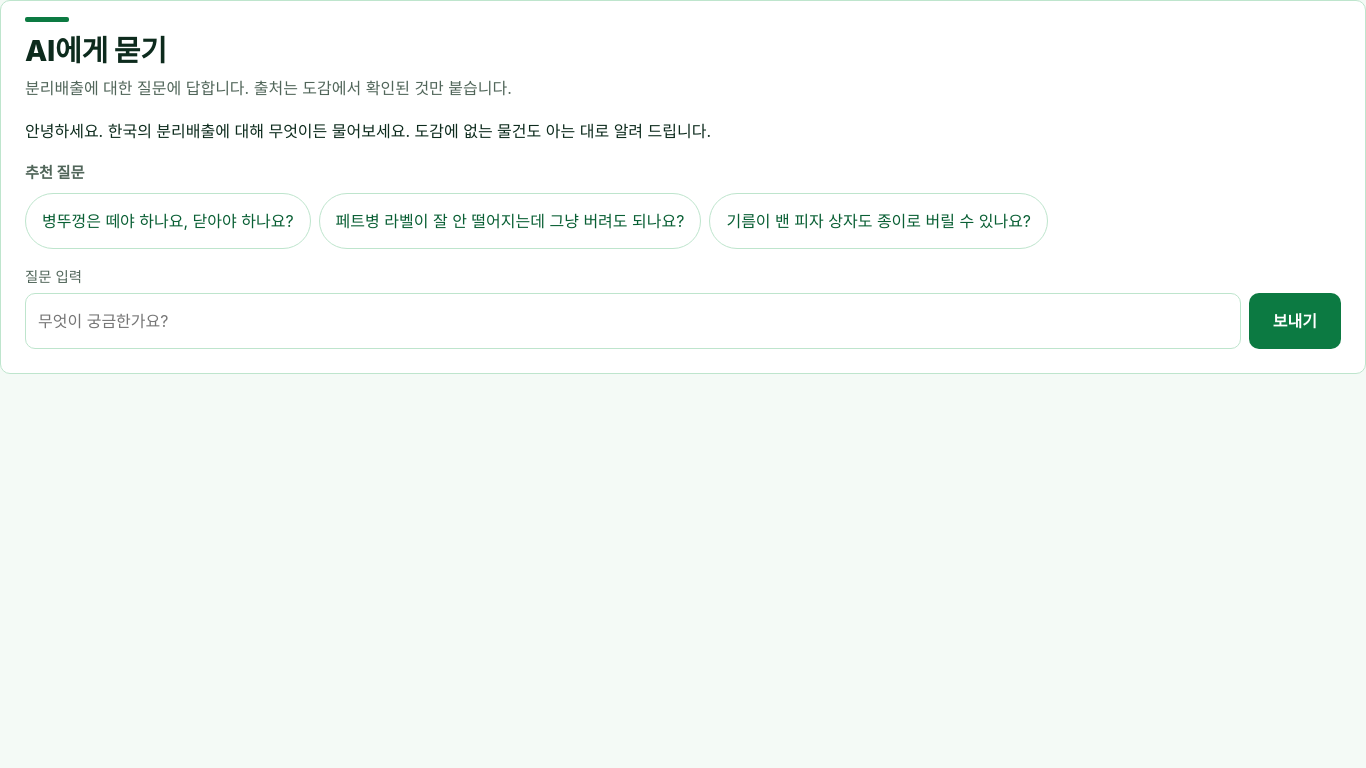
Test case: ChatSection › shows the question and then the answer
Type "페트병 어떻게 버려요?" into the field labelled "질문 입력" at (633, 321), box 25,293 -> 1241,349
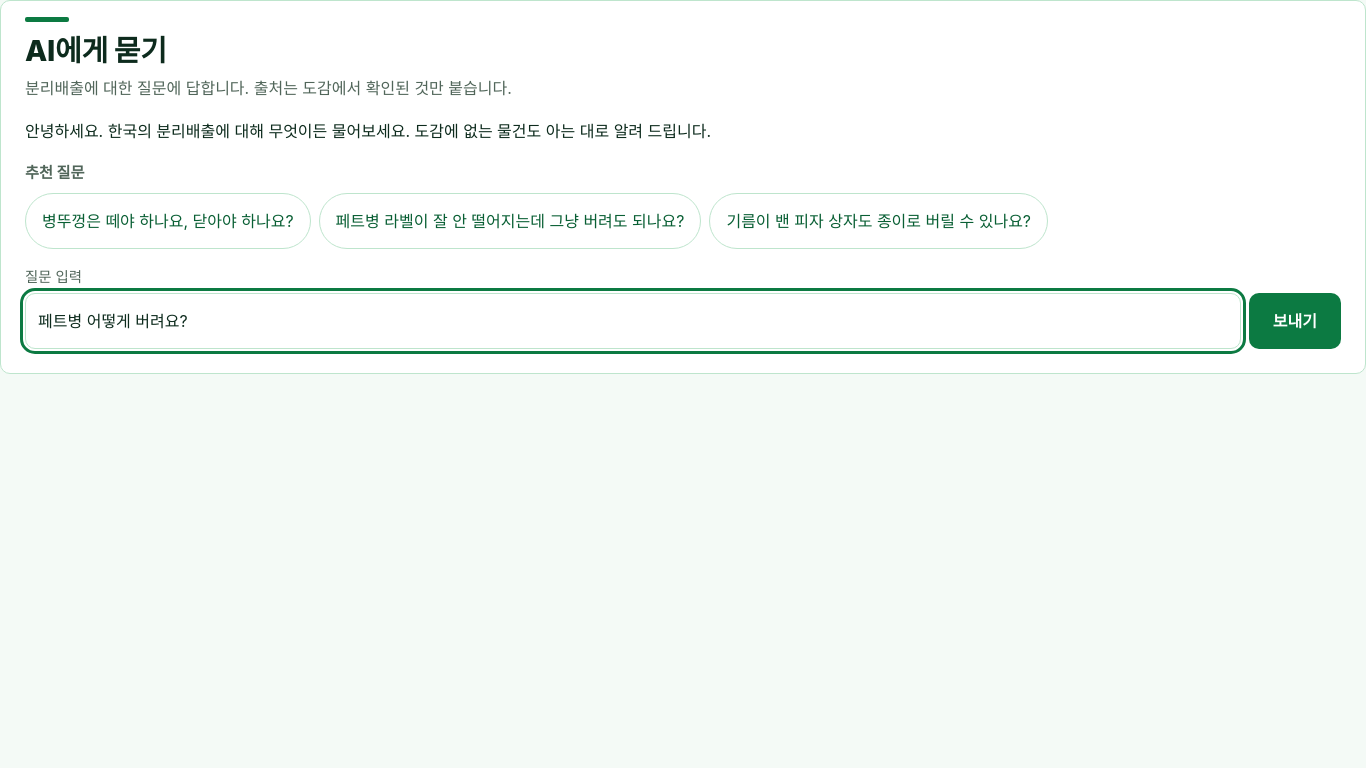
Click the button "보내기" at (1295, 321), box 1249,293 -> 1341,349
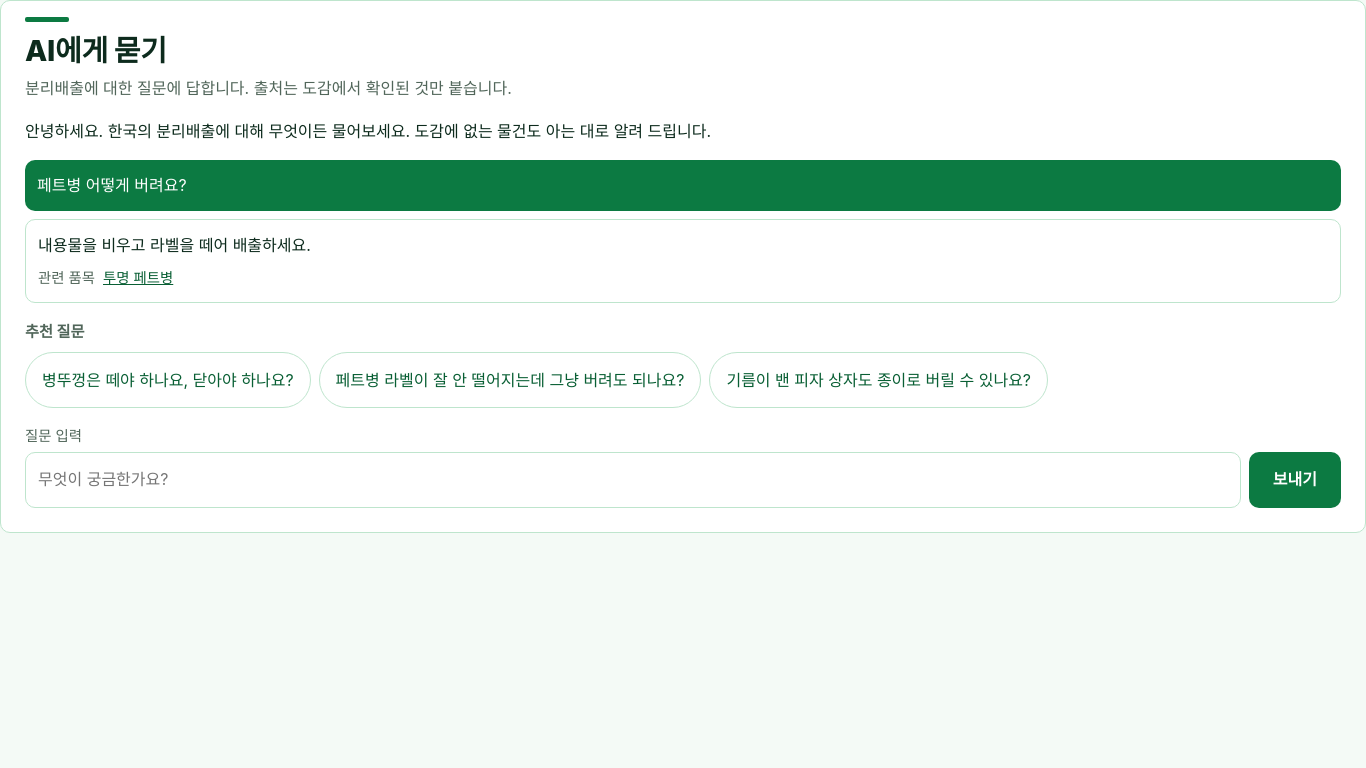
Now the text "페트병 어떻게 버려요?" is shown, box 25,160 -> 1341,210
Now the text "내용물을 비우고 라벨을 떼어 배출하세요." is shown, box 38,234 -> 311,254
